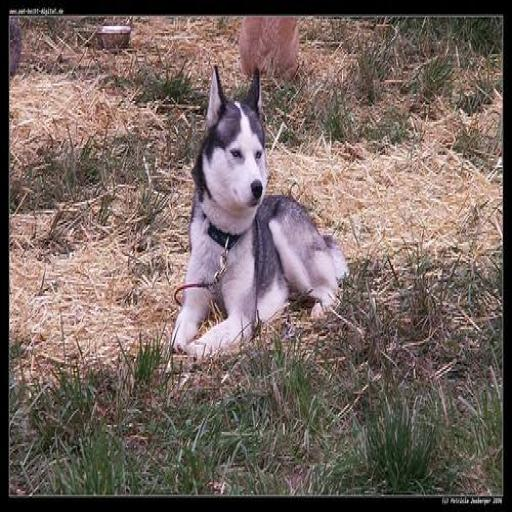dog_face: (191, 66, 275, 213)
